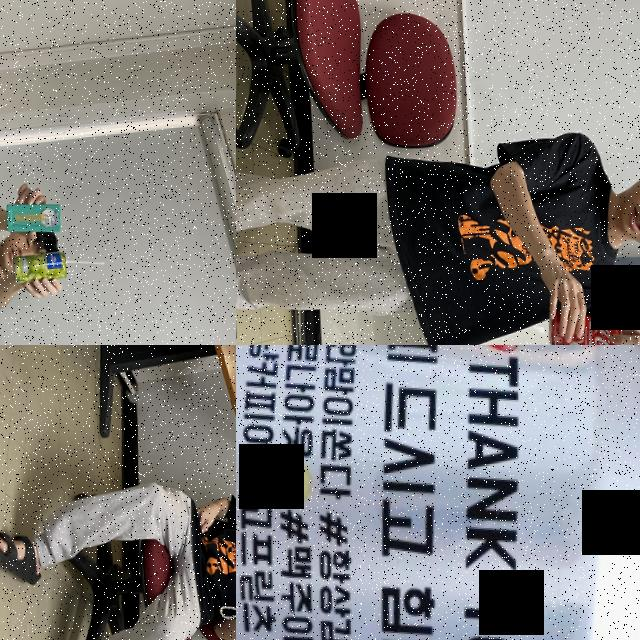can: (236, 345, 640, 640), (544, 307, 622, 345), (11, 246, 68, 286)
